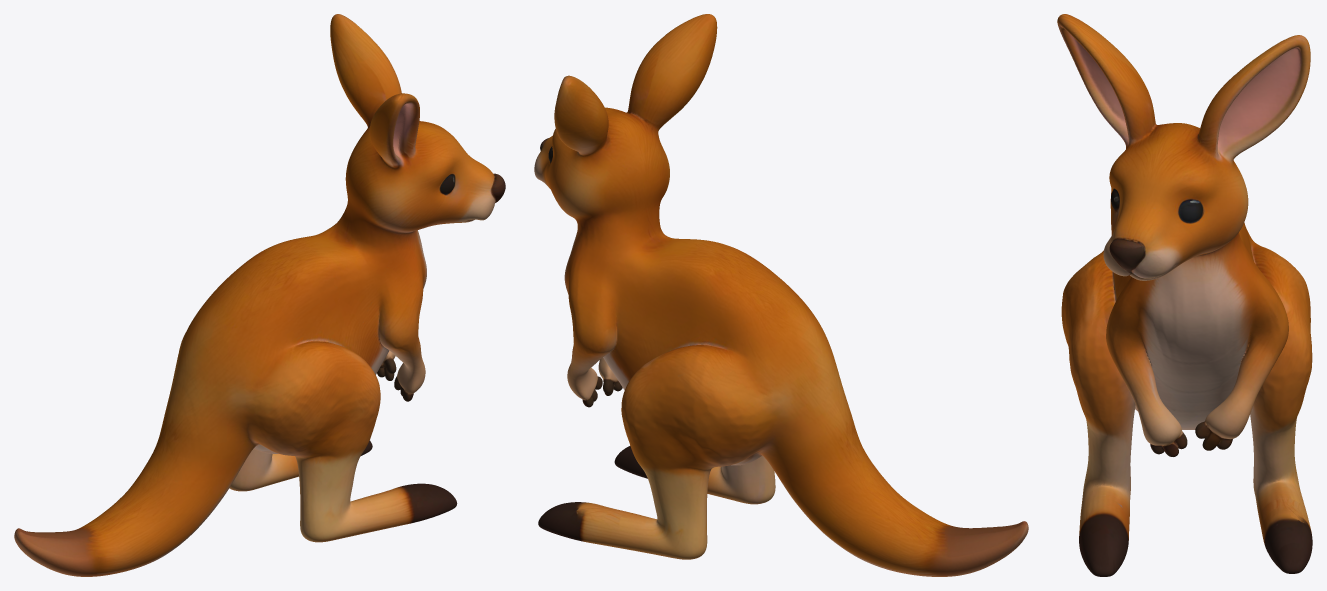
Rendered from australia_kangaroo.glb.
3 views of the same model, side by side, from view 1: azimuth 30°, elevation 25°; view 2: azimuth 150°, elevation 25°; view 3: azimuth 270°, elevation 25° (orthographic). The views are drawn at different scales.
Parts seen in each view (by area): view 1: tripo_node_8e9e0f9b-98ab-4410-8605-d41e7040b218; view 2: tripo_node_8e9e0f9b-98ab-4410-8605-d41e7040b218; view 3: tripo_node_8e9e0f9b-98ab-4410-8605-d41e7040b218.
Part boxes in pixels (<box>): tripo_node_8e9e0f9b-98ab-4410-8605-d41e7040b218: <box>14,14,505,576</box>; tripo_node_8e9e0f9b-98ab-4410-8605-d41e7040b218: <box>534,14,1028,576</box>; tripo_node_8e9e0f9b-98ab-4410-8605-d41e7040b218: <box>1057,14,1312,576</box>.
Size of the model in its own units: 1 by 0.8915 by 0.3887.
1 material, 1 textured.
